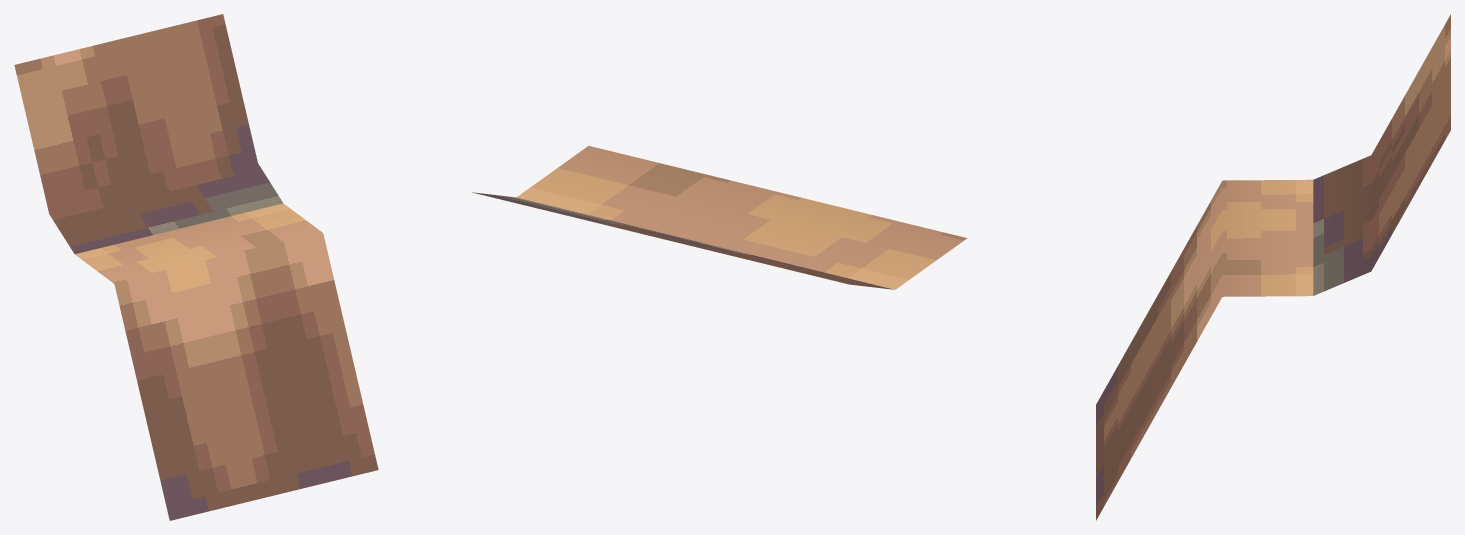
3 views of the same model, side by side, from view 1: azimuth 30°, elevation 25°; view 2: azimuth 150°, elevation 25°; view 3: azimuth 270°, elevation 25° (orthographic). The views are drawn at different scales.
Bounding box in the file's own units: 1 × 1.57 × 1.29.
Materials: 2 (2 with a texture image).
